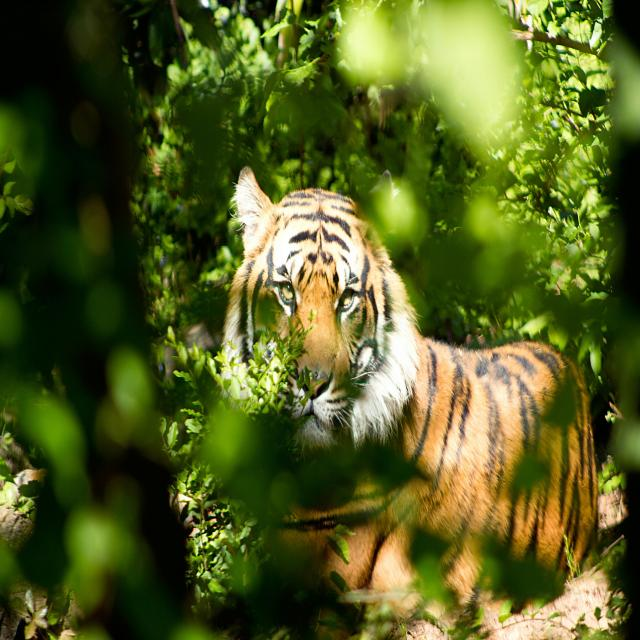Tiger: (220, 167, 599, 640)
